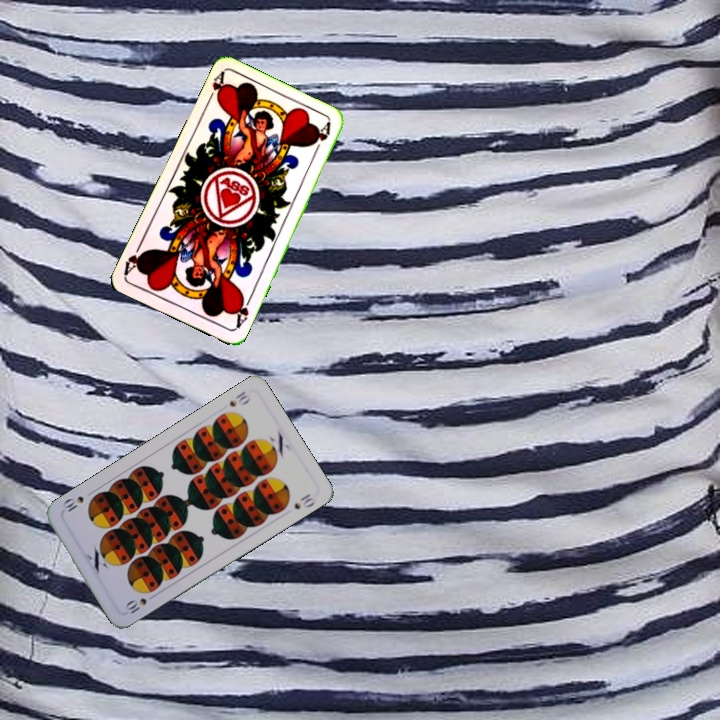HA: (203, 68, 229, 107), (231, 291, 254, 331)
S10: (121, 590, 159, 616), (225, 387, 253, 409)
